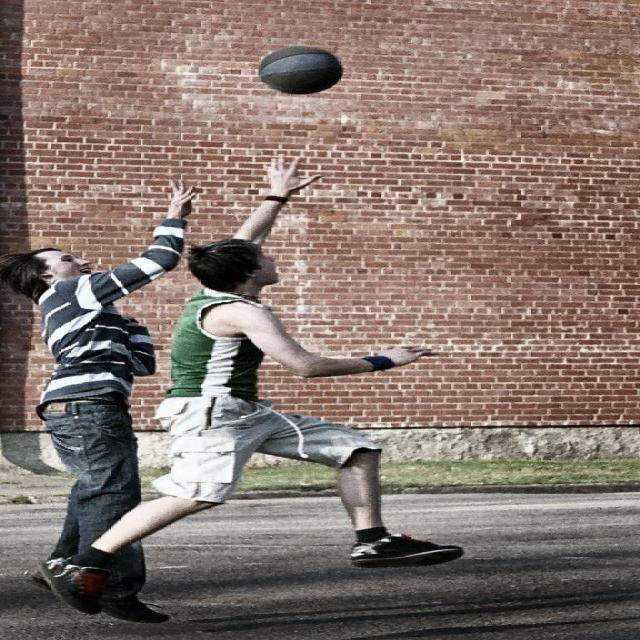ball: (260, 45, 342, 94)
